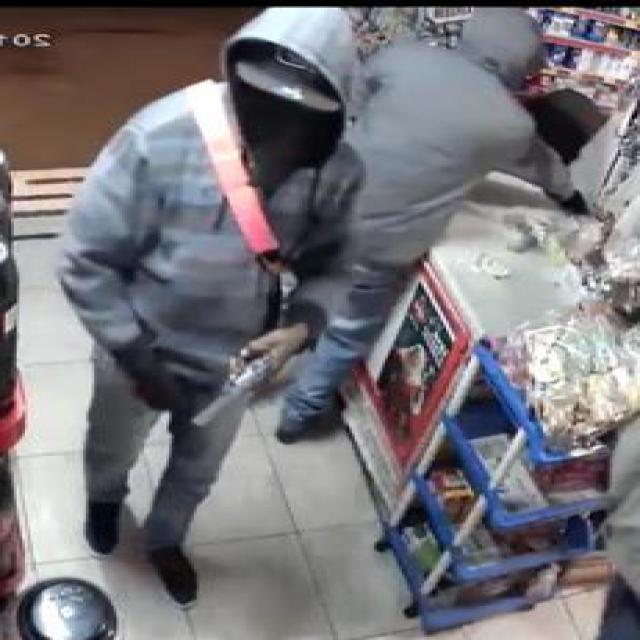Gun: (186, 332, 296, 430)
